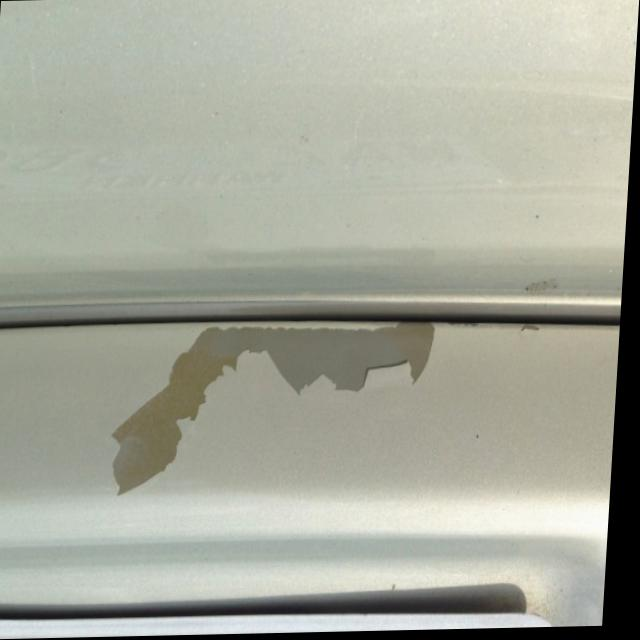Paint-fading: (99, 319, 440, 503)
